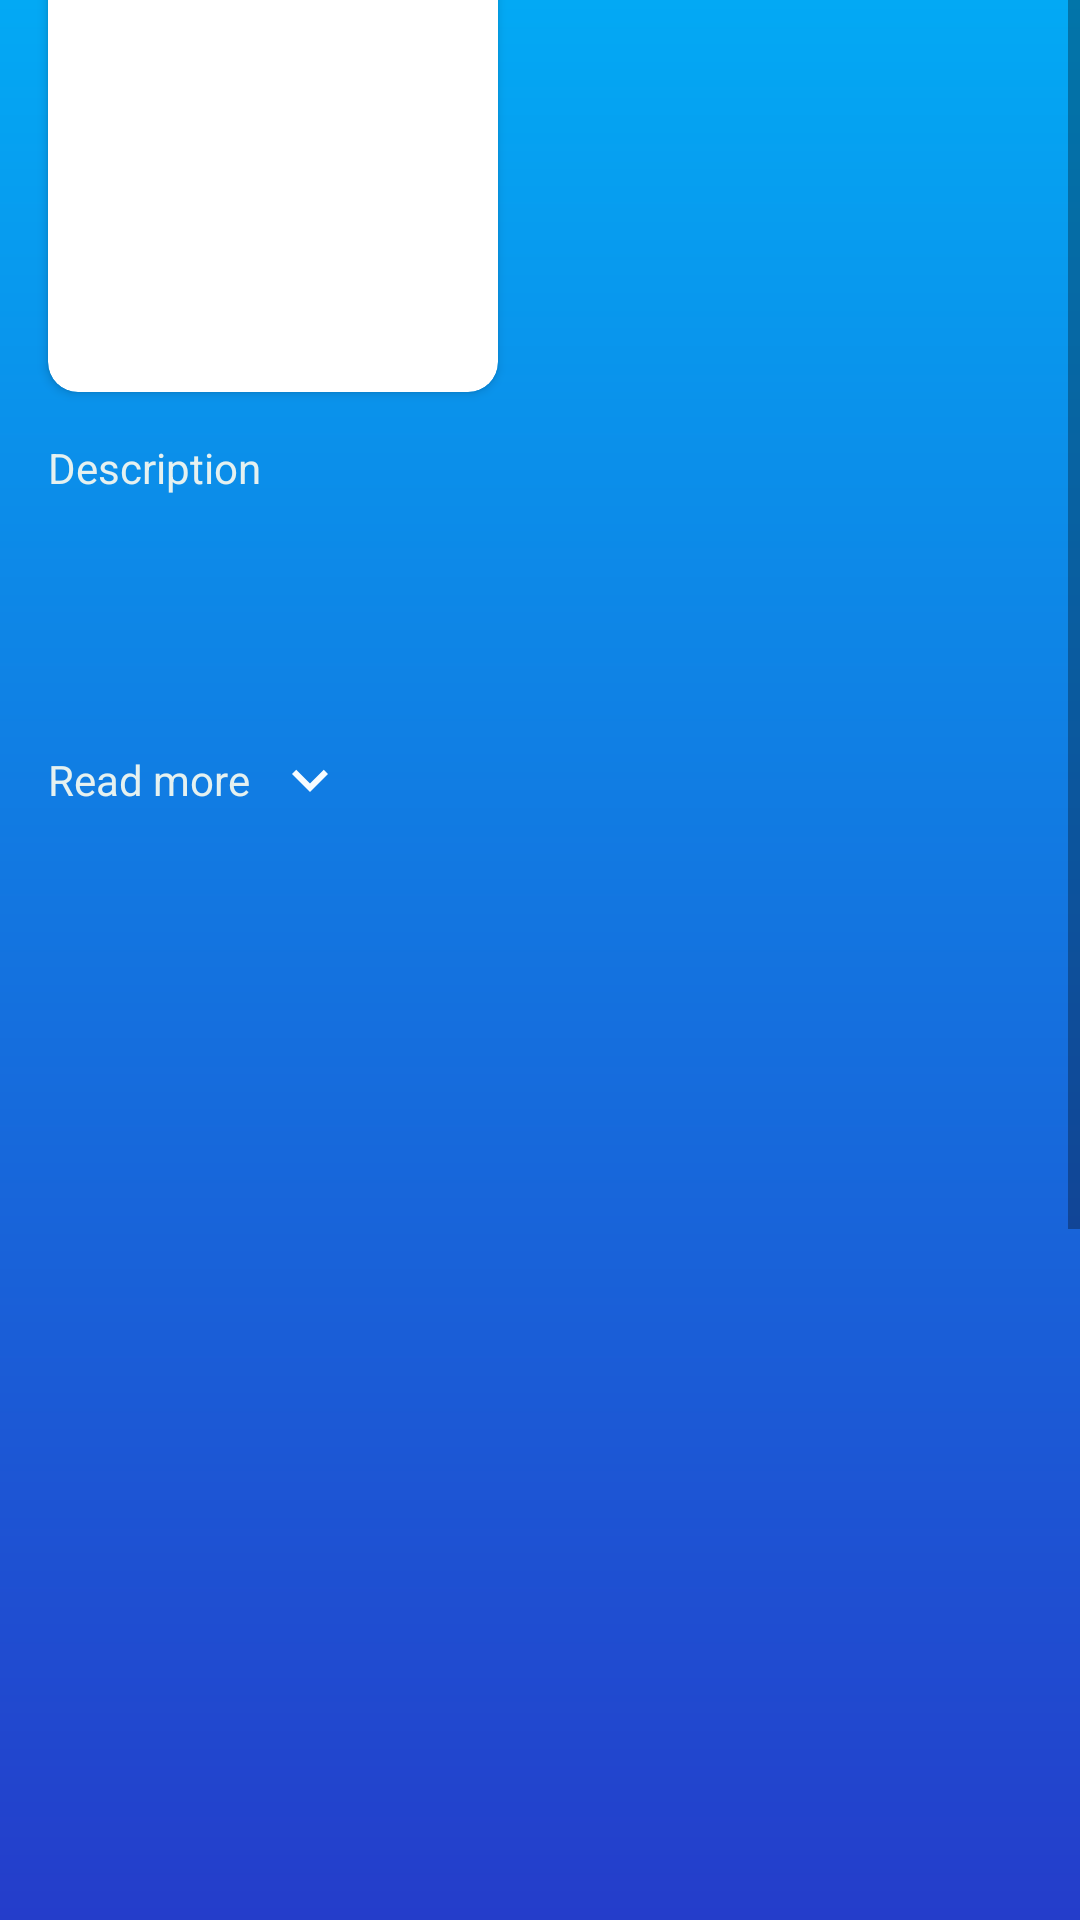

Icons on this 1080×1920 Android screen, each with its box as region(x1, y1, x2, y2):
expand more: region(292, 770, 328, 792)
